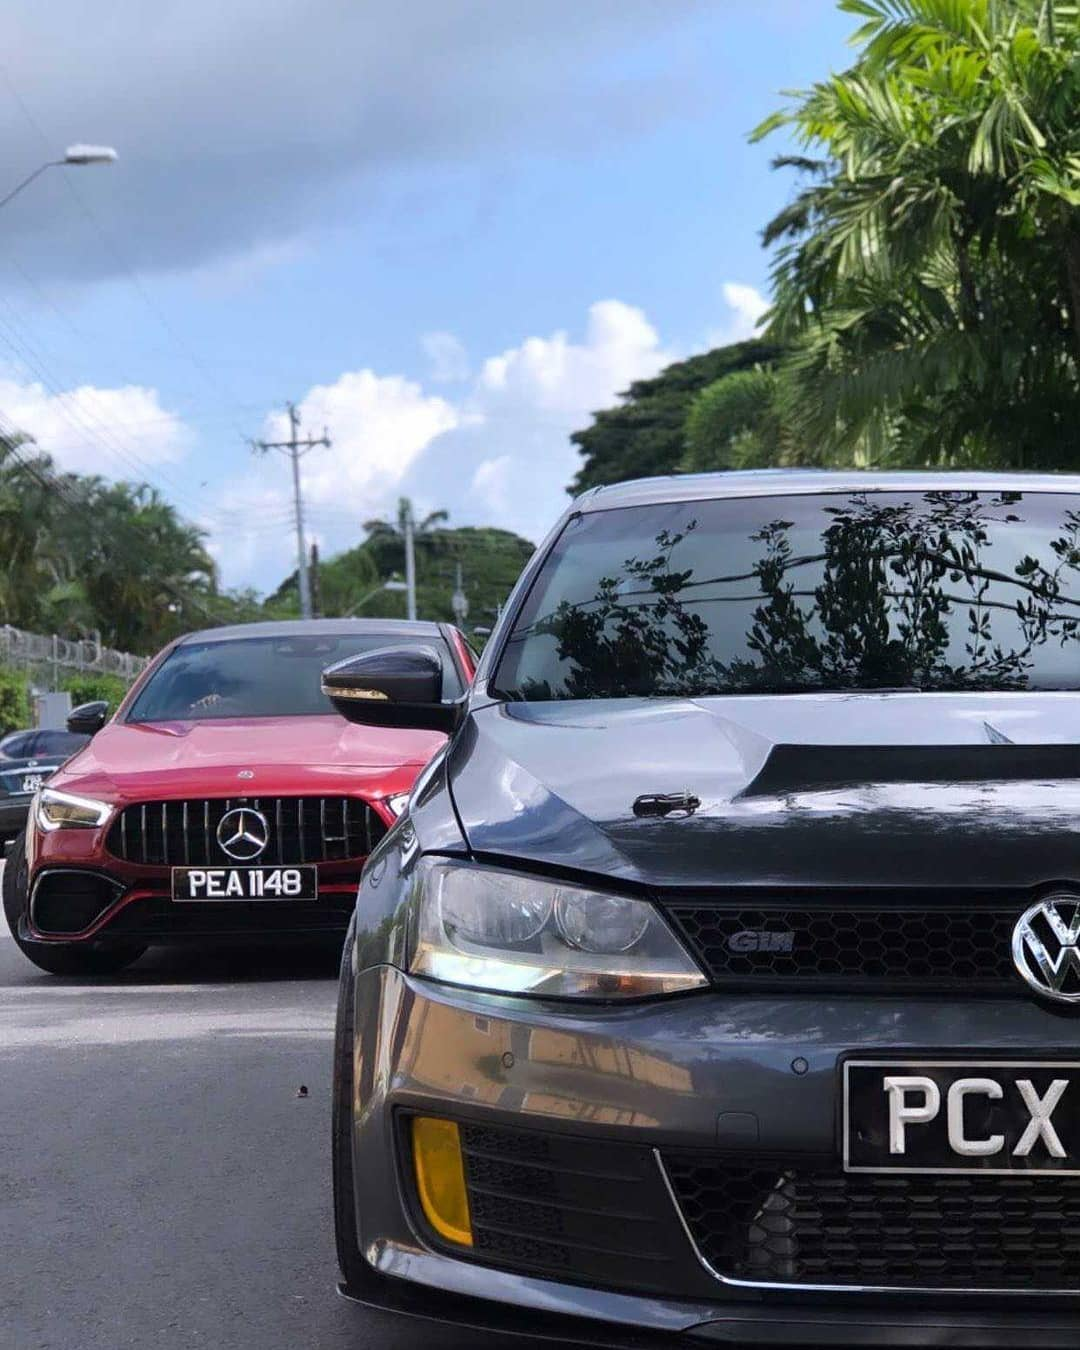License-Plate: (173, 868, 316, 901)
